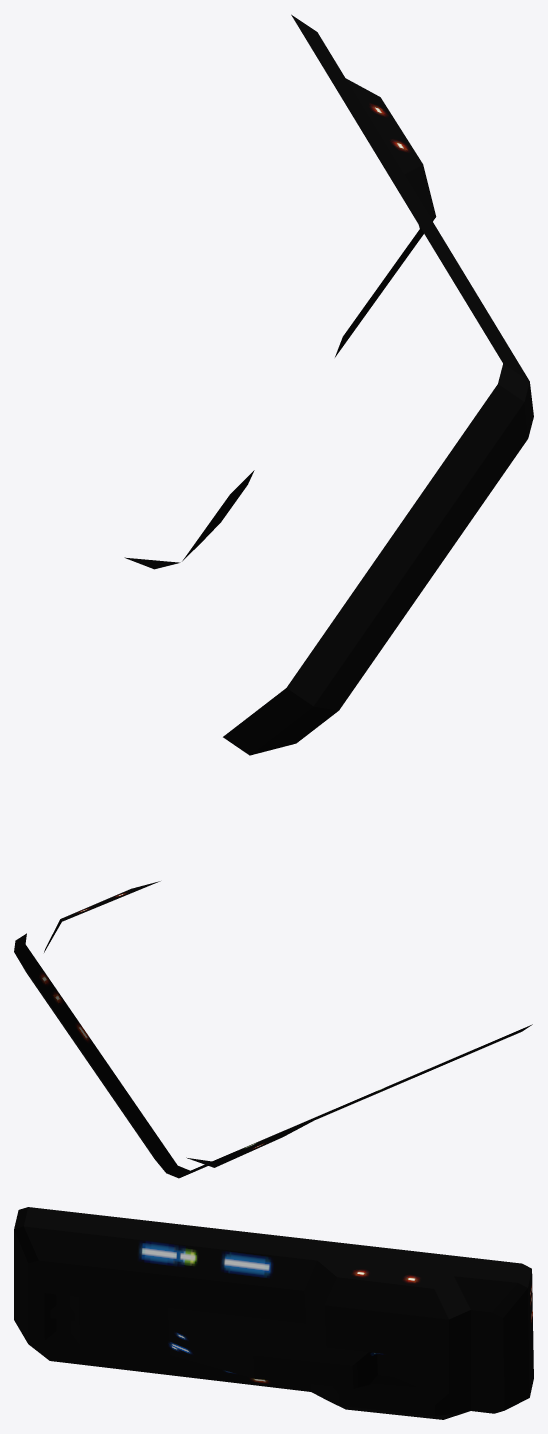
Rendered from hangar_hgn_explorer_03_basic_left.glb.
The picture shows the model from 3 angles, top to bottom: view 1: azimuth 30°, elevation 25°; view 2: azimuth 150°, elevation 25°; view 3: azimuth 270°, elevation 25°; orthographic projection. The views are drawn at different scales.
Visible parts, largest first — view 1: hgn_flagship_explorer_03_hangar_01_l; view 2: hgn_flagship_explorer_03_hangar_01_l; view 3: hgn_flagship_explorer_03_hangar_01_l.
Part boxes in pixels (box(x1,y1,x2,y2)): hgn_flagship_explorer_03_hangar_01_l: box(124, 14, 533, 755); hgn_flagship_explorer_03_hangar_01_l: box(14, 881, 532, 1178); hgn_flagship_explorer_03_hangar_01_l: box(14, 1207, 533, 1419).
Size of the model in its own units: 1.08 by 0.7989 by 1.64.
Materials: 1 (1 with a texture image).
